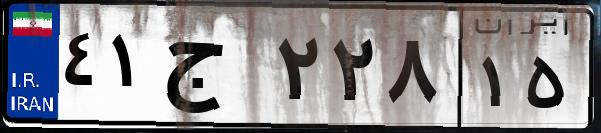1: (475, 38, 525, 113), (110, 28, 158, 98)
2: (270, 28, 330, 110), (330, 28, 385, 110)
4: (57, 26, 110, 100)
5: (525, 38, 570, 115)
8: (385, 28, 445, 110)
ج: (158, 20, 270, 120)
